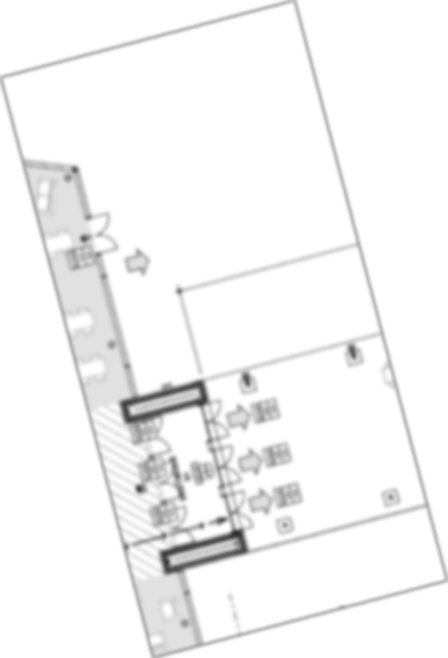double door: (132, 413, 174, 458), (146, 461, 188, 506), (161, 502, 197, 550), (82, 211, 119, 257), (195, 399, 231, 442), (206, 446, 242, 488), (220, 493, 256, 533)
